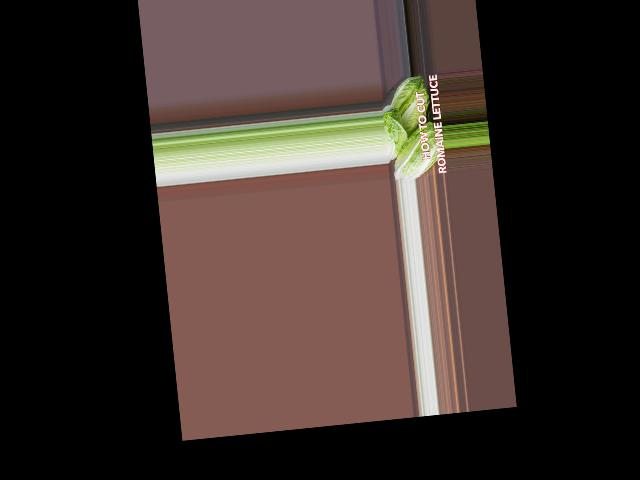lettuce: (384, 72, 437, 141)
